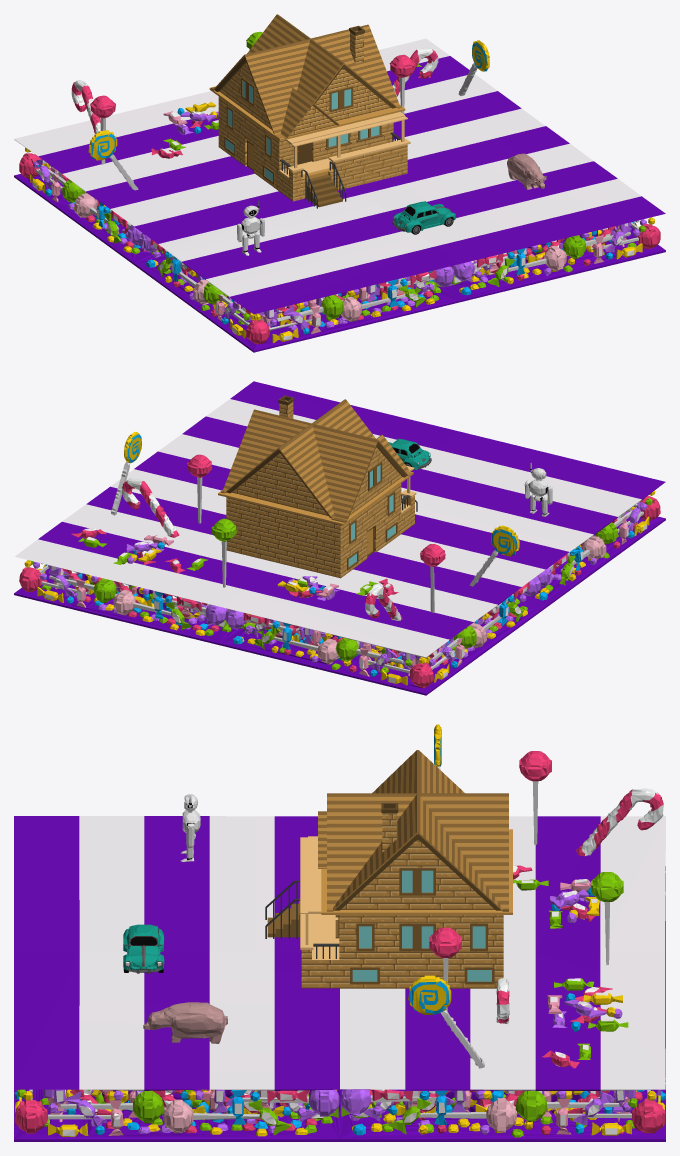
3 renders of one model, top to bottom at view 1: azimuth 30°, elevation 25°; view 2: azimuth 150°, elevation 25°; view 3: azimuth 270°, elevation 25°, orthographic. The views are drawn at different scales.
Visible parts, largest first — view 1: TERRAIN_CANDY, Cube.508, VEHICLES_VOLKSWAGEN, ANIMAL_HIPOPOTAMO, OBJRANDOM_PLATZEEBOT; view 2: TERRAIN_CANDY, Cube.508, OBJRANDOM_PLATZEEBOT, VEHICLES_VOLKSWAGEN; view 3: TERRAIN_CANDY, Cube.508, ANIMAL_HIPOPOTAMO, VEHICLES_VOLKSWAGEN, OBJRANDOM_PLATZEEBOT.
Boxes of the visible parts, bbox=[...] form: TERRAIN_CANDY: bbox=[14, 31, 665, 352]; Cube.508: bbox=[209, 14, 410, 208]; VEHICLES_VOLKSWAGEN: bbox=[392, 201, 456, 234]; ANIMAL_HIPOPOTAMO: bbox=[507, 153, 546, 189]; OBJRANDOM_PLATZEEBOT: bbox=[237, 200, 264, 255]; TERRAIN_CANDY: bbox=[14, 381, 665, 695]; Cube.508: bbox=[218, 395, 417, 578]; OBJRANDOM_PLATZEEBOT: bbox=[524, 463, 552, 516]; VEHICLES_VOLKSWAGEN: bbox=[388, 438, 431, 469]; TERRAIN_CANDY: bbox=[14, 724, 665, 1141]; Cube.508: bbox=[265, 750, 512, 988]; ANIMAL_HIPOPOTAMO: bbox=[143, 1002, 227, 1043]; VEHICLES_VOLKSWAGEN: bbox=[123, 924, 164, 973]; OBJRANDOM_PLATZEEBOT: bbox=[180, 794, 200, 861].
Bounding box in the file's own units: 4059 × 1534 × 4000.
26 materials, 4 textured.
